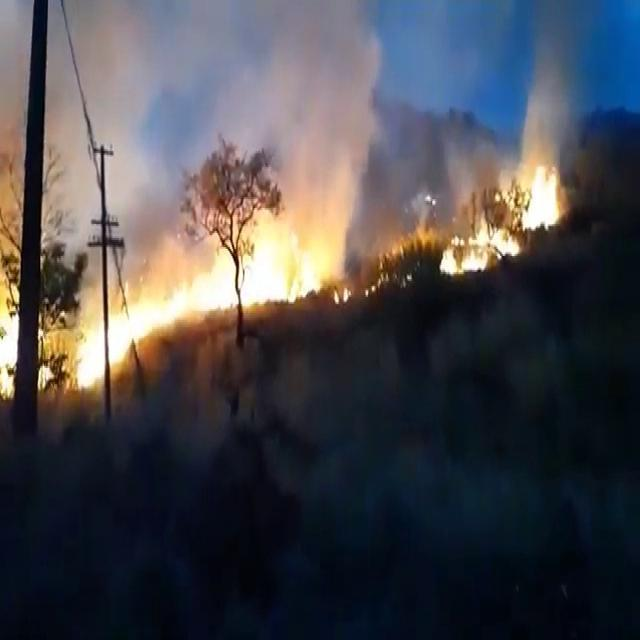Fire: (76, 275, 184, 393), (190, 234, 288, 308), (441, 230, 523, 276), (519, 160, 564, 230), (294, 234, 320, 318), (2, 311, 23, 391), (343, 279, 349, 308), (364, 288, 372, 302), (407, 272, 414, 288), (373, 280, 379, 292), (335, 290, 341, 302)
Smoke: (262, 0, 388, 205), (392, 456, 556, 558), (522, 4, 590, 156), (164, 516, 214, 626)
